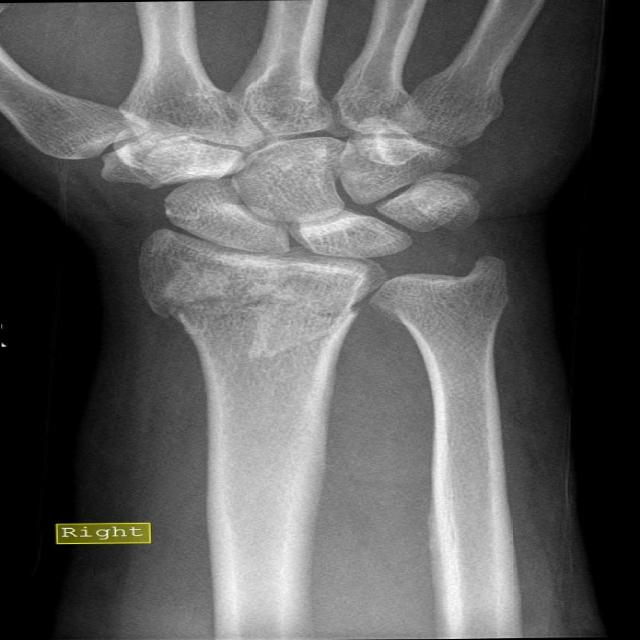Transverse Displaced: (140, 278, 363, 352)
